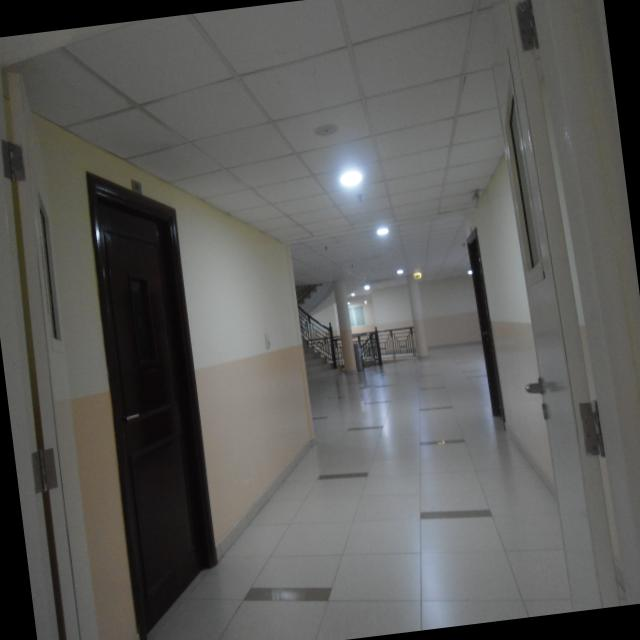door: (0, 0, 640, 640), (82, 165, 226, 636), (462, 234, 507, 416)
exitLight: (408, 266, 424, 281)
pillar: (332, 284, 358, 374), (405, 268, 430, 357)
railing: (290, 288, 338, 367), (352, 320, 418, 368)
stairs: (296, 313, 349, 395), (284, 270, 328, 316)
